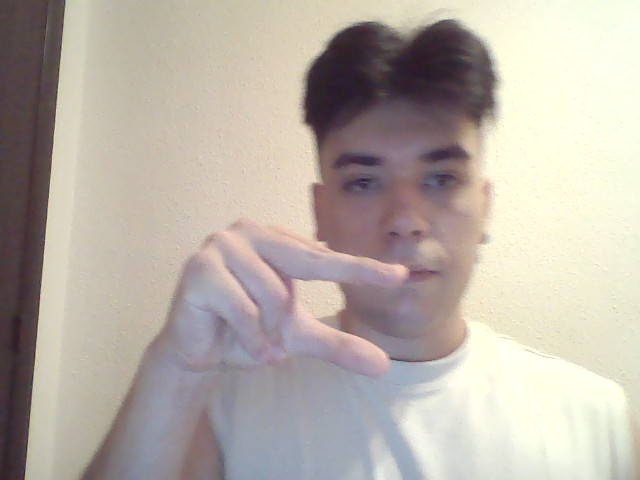No: (165, 209, 422, 405)
